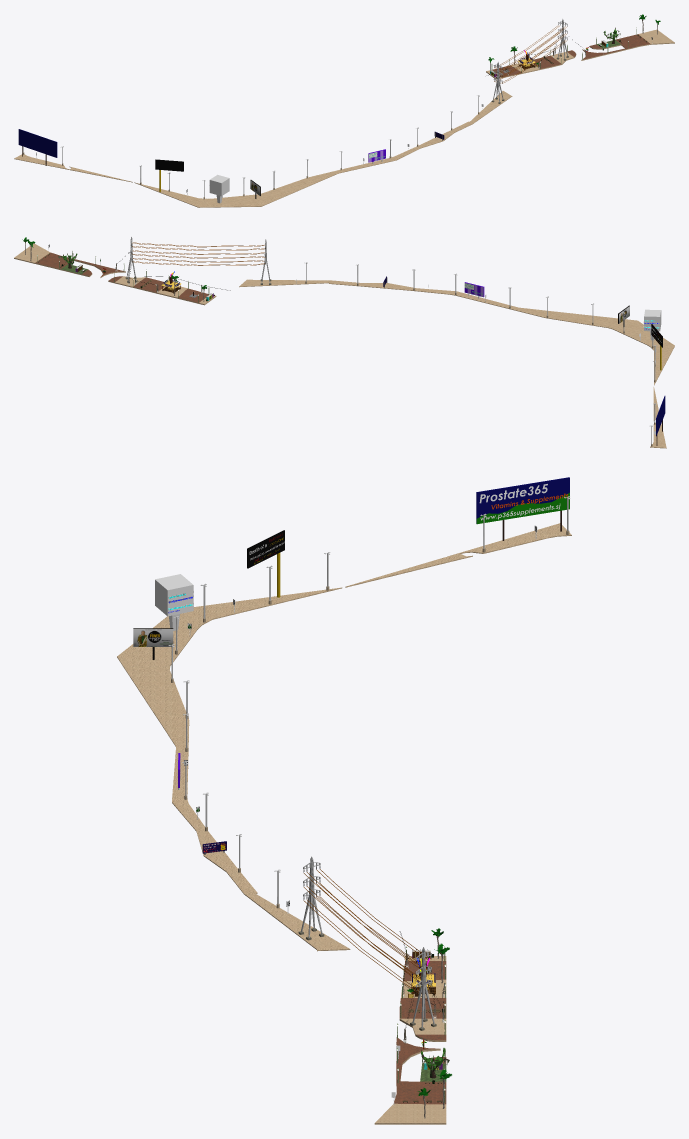
Rendered from Beachfront.glb.
3 renders of one model, top to bottom at view 1: azimuth 30°, elevation 25°; view 2: azimuth 150°, elevation 25°; view 3: azimuth 270°, elevation 25°, orthographic. The views are drawn at different scales.
Parts seen in each view (by area): view 1: Ground.002, Ground.001, Ground, Billboard.001, Wires, Groundext, CubeAd, Posts, BB; view 2: Ground.002, Wires, Ground.001, Ground, Posts, Groundext, CubeAd; view 3: Ground.002, Ground.001, Billboard.001, Ground, Groundext, Wires, CubeAd, Posts.
Boxes of the visible parts, bbox=[...] form: Ground.002: bbox=[134, 91, 512, 207]; Ground.001: bbox=[581, 29, 674, 60]; Ground: bbox=[486, 50, 576, 79]; Billboard.001: bbox=[18, 129, 57, 157]; Wires: bbox=[494, 26, 566, 83]; Groundext: bbox=[14, 154, 132, 182]; CubeAd: bbox=[209, 174, 229, 203]; Posts: bbox=[23, 95, 479, 199]; BB: bbox=[155, 159, 183, 171]; Ground.002: bbox=[239, 279, 674, 385]; Wires: bbox=[132, 242, 265, 265]; Ground.001: bbox=[14, 243, 125, 277]; Ground: bbox=[108, 276, 216, 305]; Posts: bbox=[304, 262, 656, 446]; Groundext: bbox=[650, 387, 666, 448]; CubeAd: bbox=[644, 309, 661, 340]; Ground.002: bbox=[117, 587, 350, 951]; Ground.001: bbox=[374, 1037, 446, 1124]; Billboard.001: bbox=[476, 477, 569, 524]; Ground: bbox=[399, 956, 446, 1041]; Groundext: bbox=[345, 523, 571, 587]; Wires: bbox=[303, 869, 431, 991]; CubeAd: bbox=[155, 574, 193, 630]; Posts: bbox=[168, 496, 570, 908].
Size of what is drawn, in the model's own units: 434 by 27.64 by 139.
Materials: 115 (7 with a texture image).
